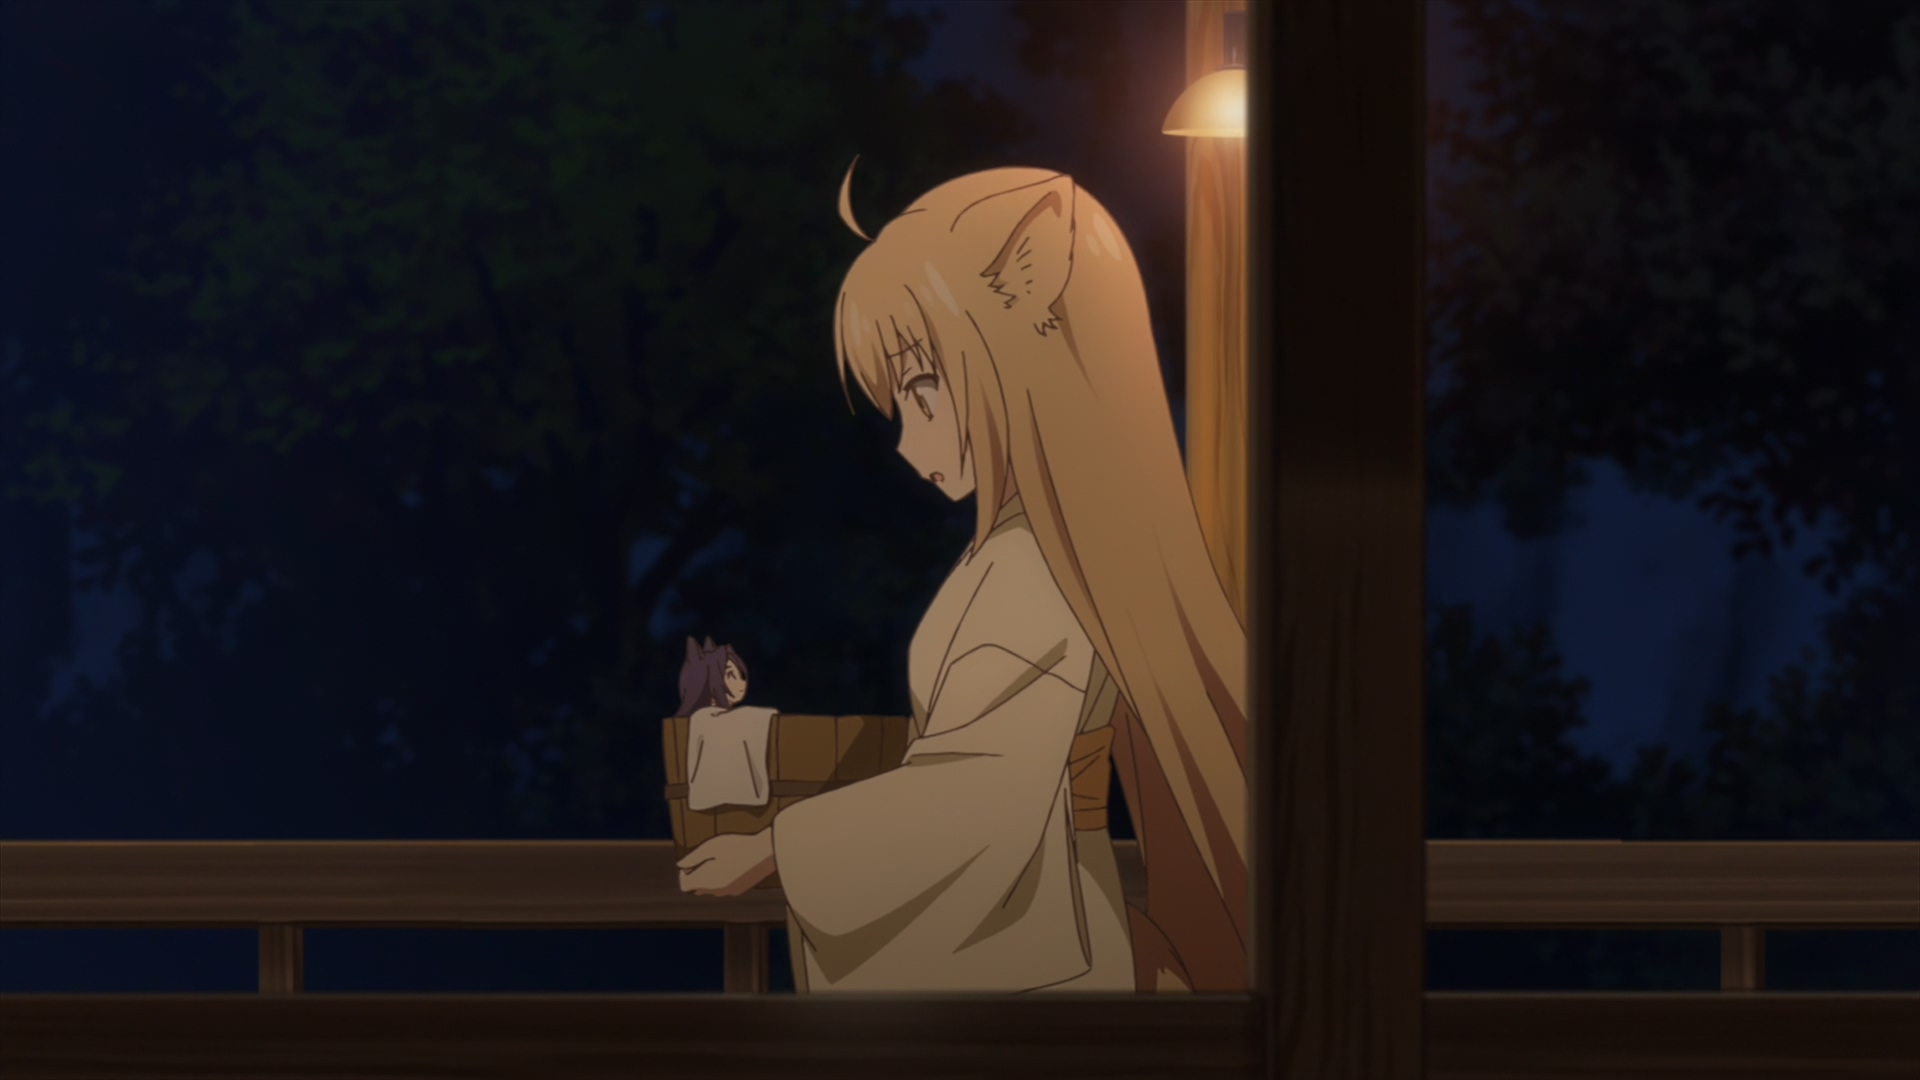柚: (679, 150, 1246, 992)
皋: (673, 634, 750, 712)
